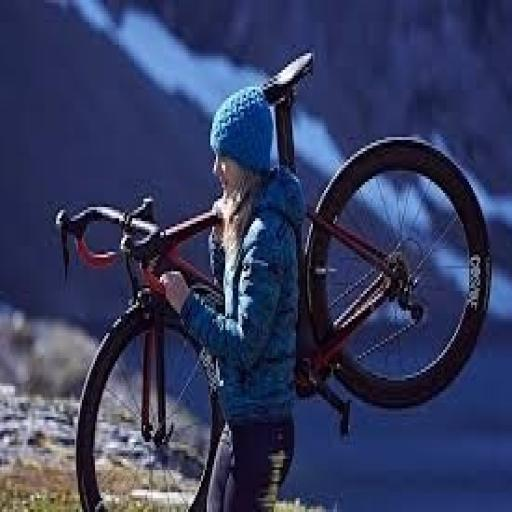cycling: (155, 84, 307, 509)
